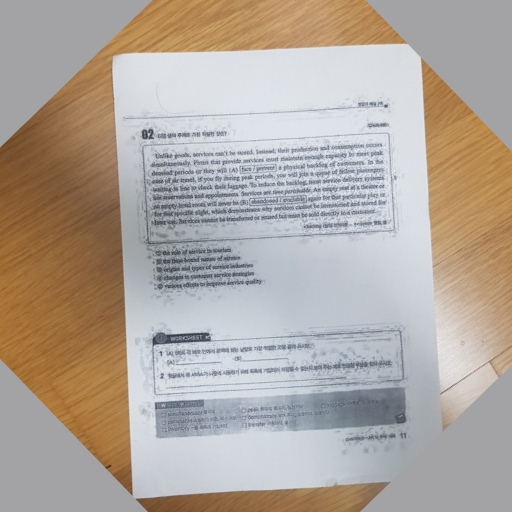Paper_2: (108, 40, 463, 503)
